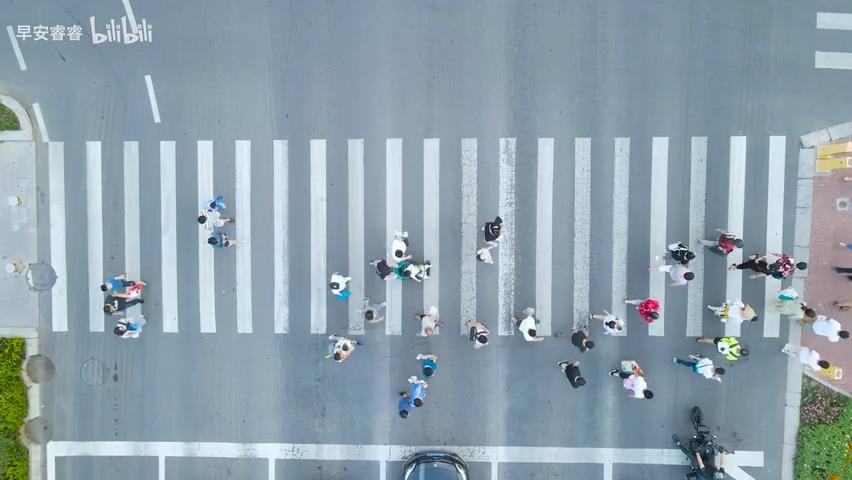Civilian: (369, 229, 431, 282), (727, 251, 807, 280), (781, 342, 842, 380), (647, 240, 695, 286), (797, 302, 849, 342), (769, 286, 816, 326), (608, 360, 653, 399), (673, 352, 724, 382), (697, 227, 744, 257), (695, 335, 748, 361), (397, 375, 428, 418), (475, 215, 502, 264), (100, 272, 147, 299), (511, 306, 544, 342), (707, 299, 758, 322), (622, 296, 660, 323), (325, 333, 360, 362), (412, 305, 443, 336), (589, 309, 623, 335), (557, 359, 587, 388), (197, 208, 235, 229), (113, 313, 146, 337), (103, 295, 144, 314), (464, 318, 489, 349), (361, 296, 386, 324), (207, 231, 248, 248), (407, 375, 428, 407), (329, 271, 352, 299), (570, 326, 594, 352), (480, 215, 502, 242), (415, 352, 438, 376), (397, 390, 411, 418), (207, 195, 226, 212), (831, 265, 851, 280), (832, 299, 851, 311)
